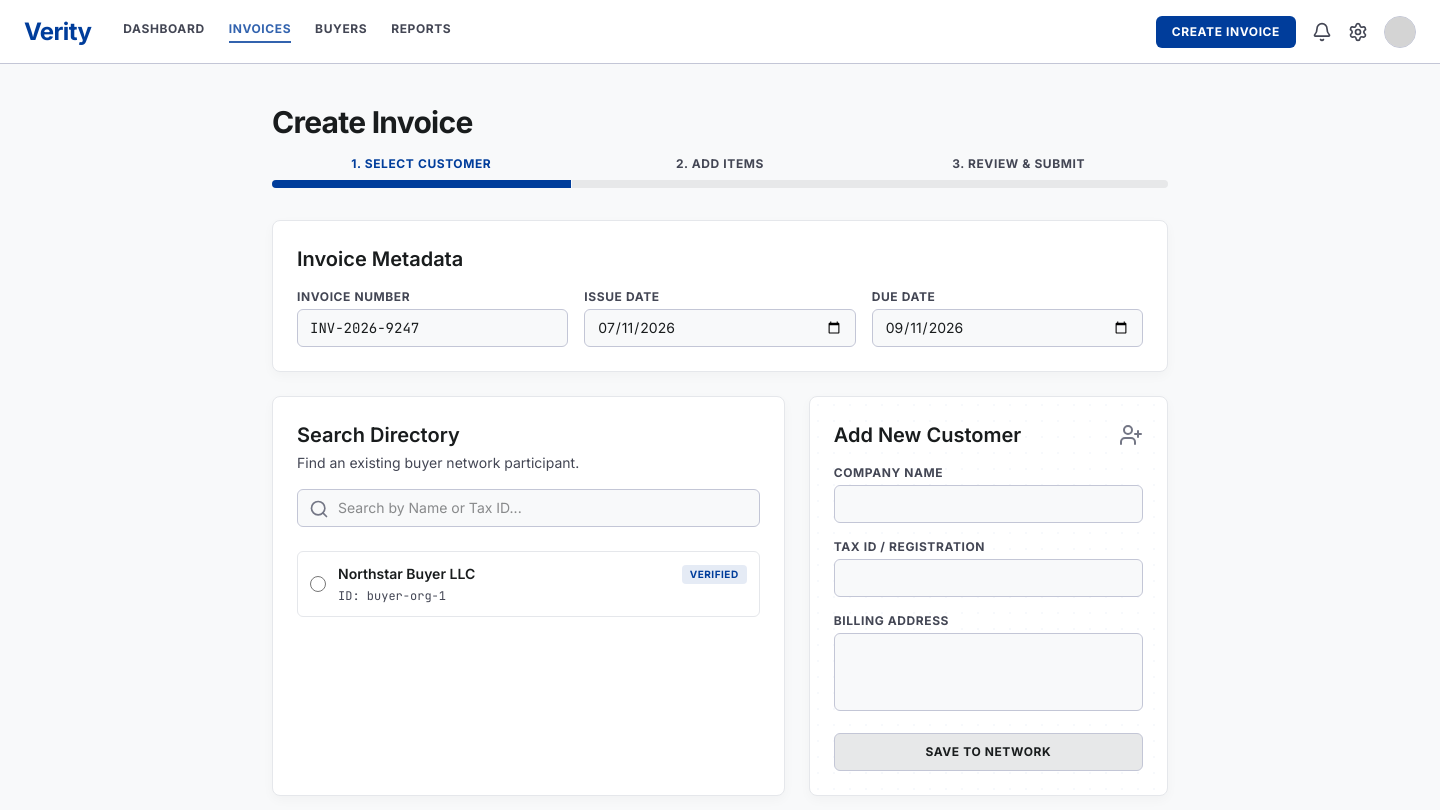
Scenario: supplier CreateInvoiceFullView component functions › requires the due date to be after the issue date
The width and height of the screenshot is (1440, 810).
Replace the text in the field labelled "Invoice Number" with "INV-DETAIL-301" at (433, 328), box [297,309,568,347]
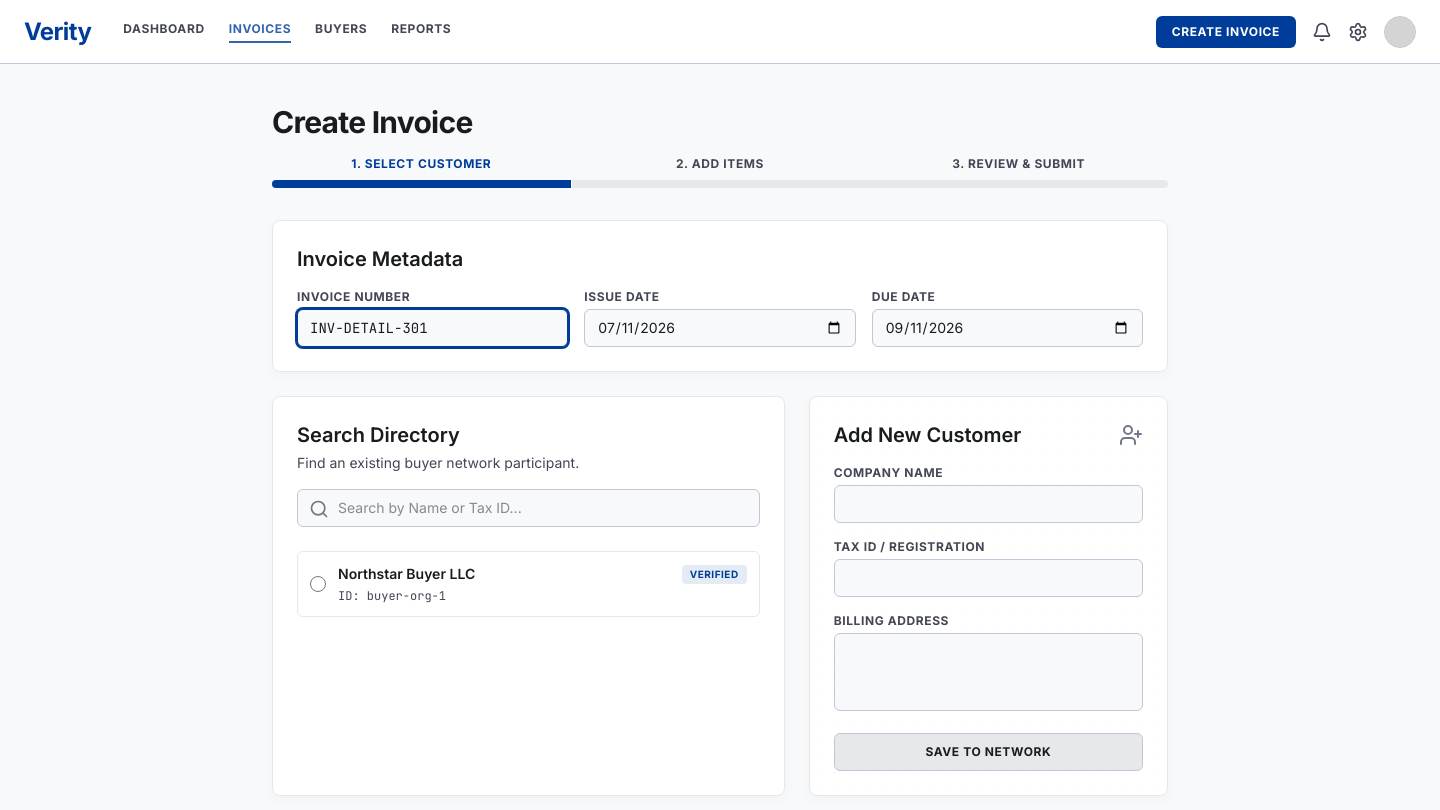
Type "2026-07-05" into the date field labelled "Issue Date".
click(720, 328); type("2026-07-05")  # box [584,309,856,347]
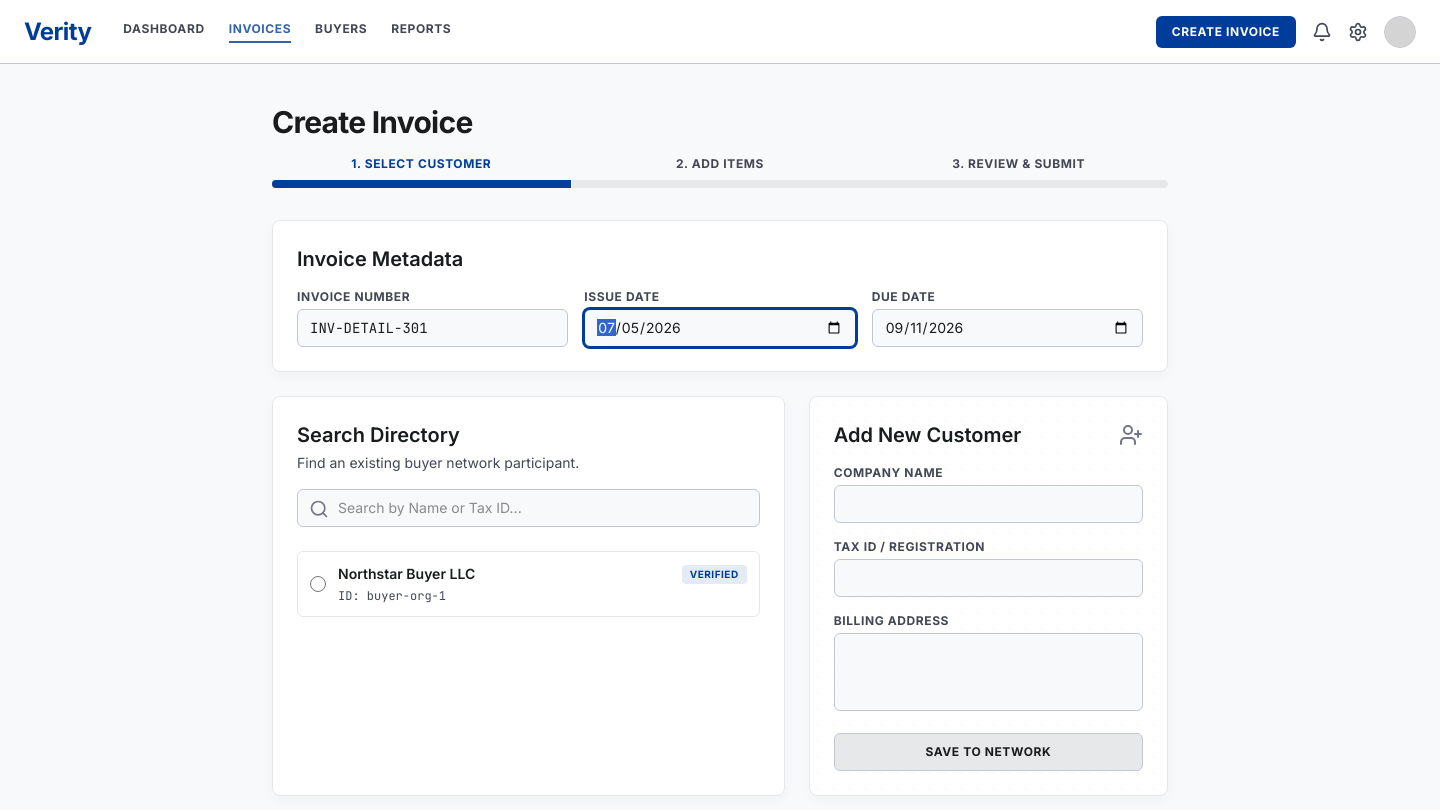
Type "2026-06-05" into the date field labelled "Due Date".
click(1007, 328); type("2026-06-05")  # box [872,309,1143,347]
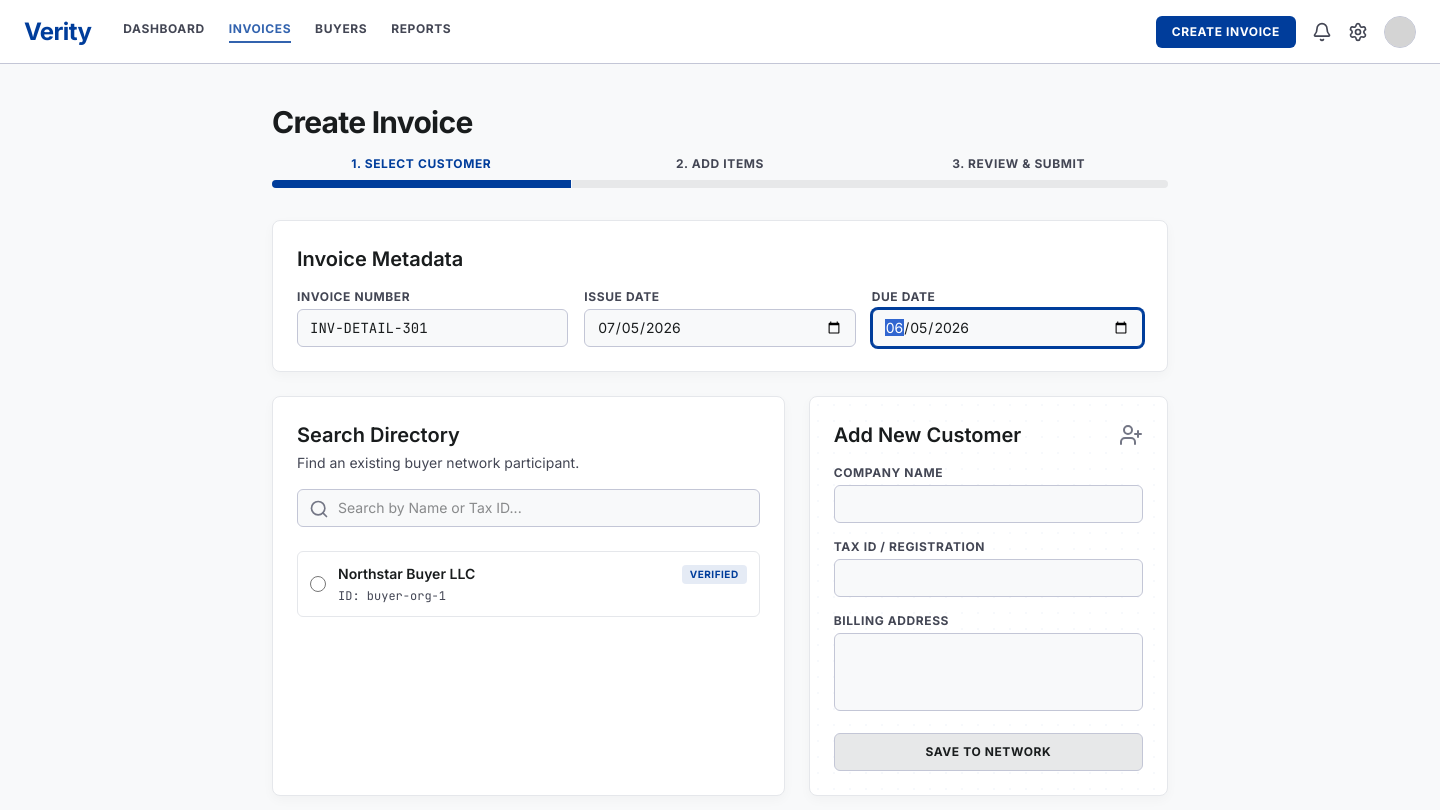
Click the radio button labelled "Northstar Buyer LLC VERIFIED ID: buyer-org-1".
click(318, 584)  # box [310,576,326,592]
(page scrolled)
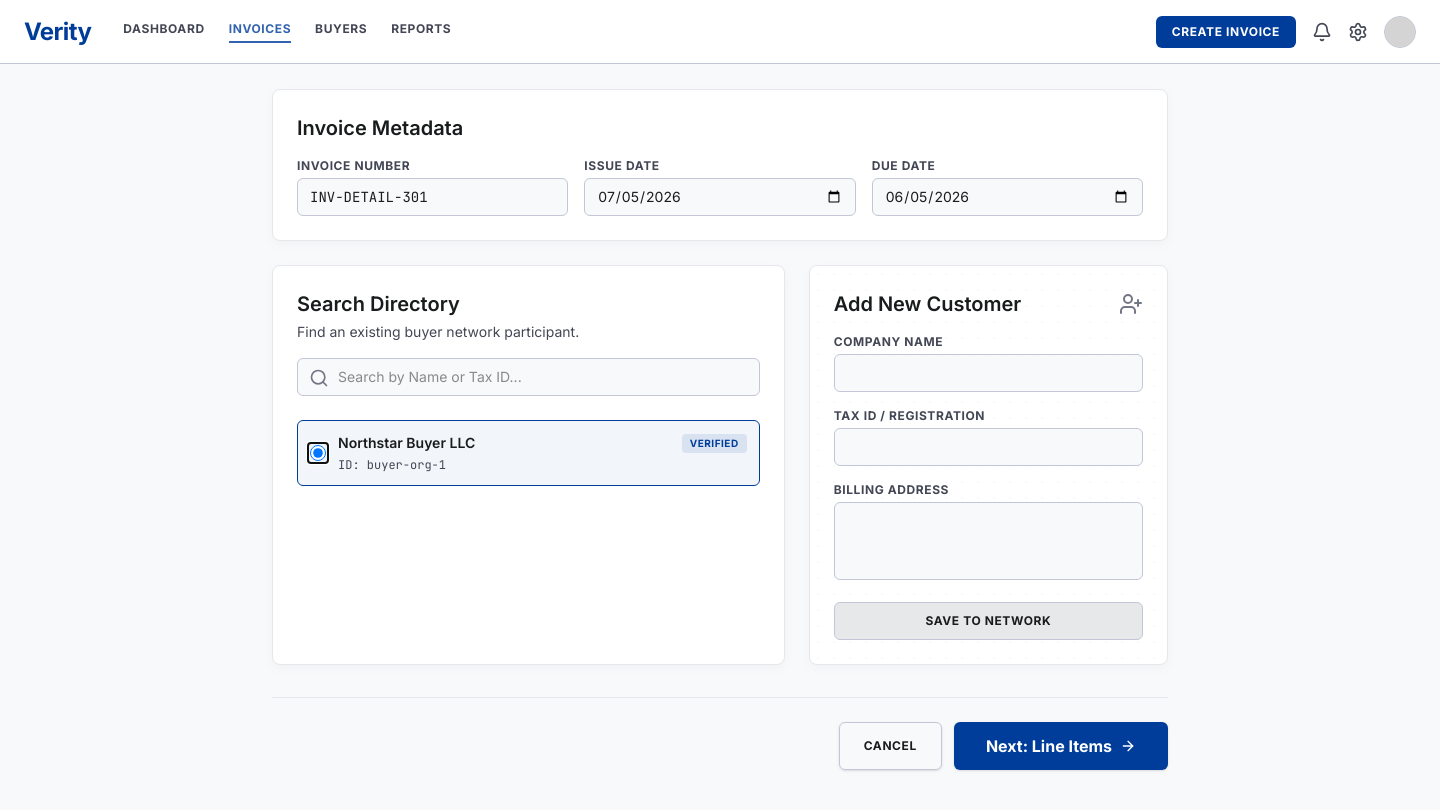
Click the button "Next: Line Items".
click(1061, 746)  # box [954,722,1168,770]
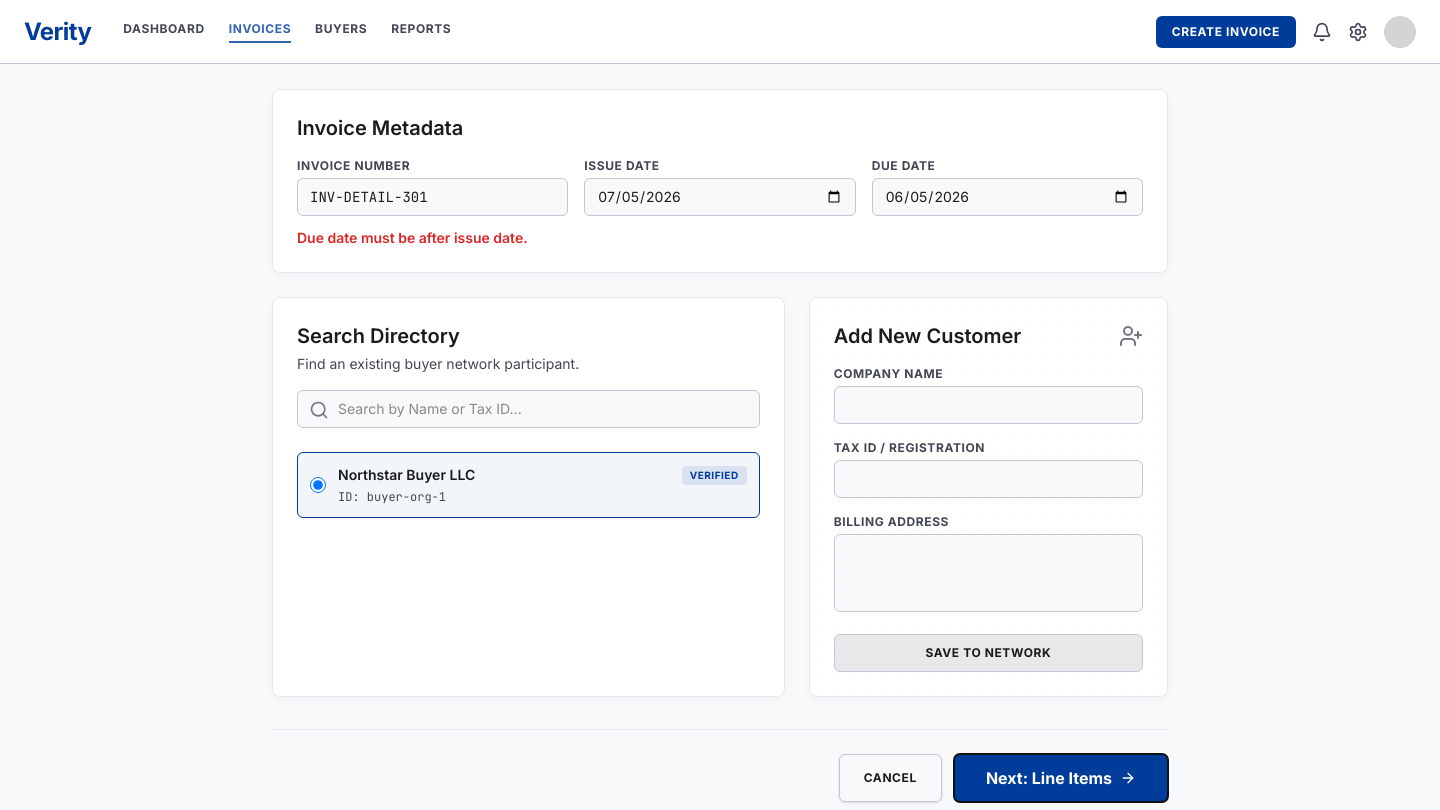
Check: the text "Due date must be after issue date." is shown, box [297,229,528,246]
